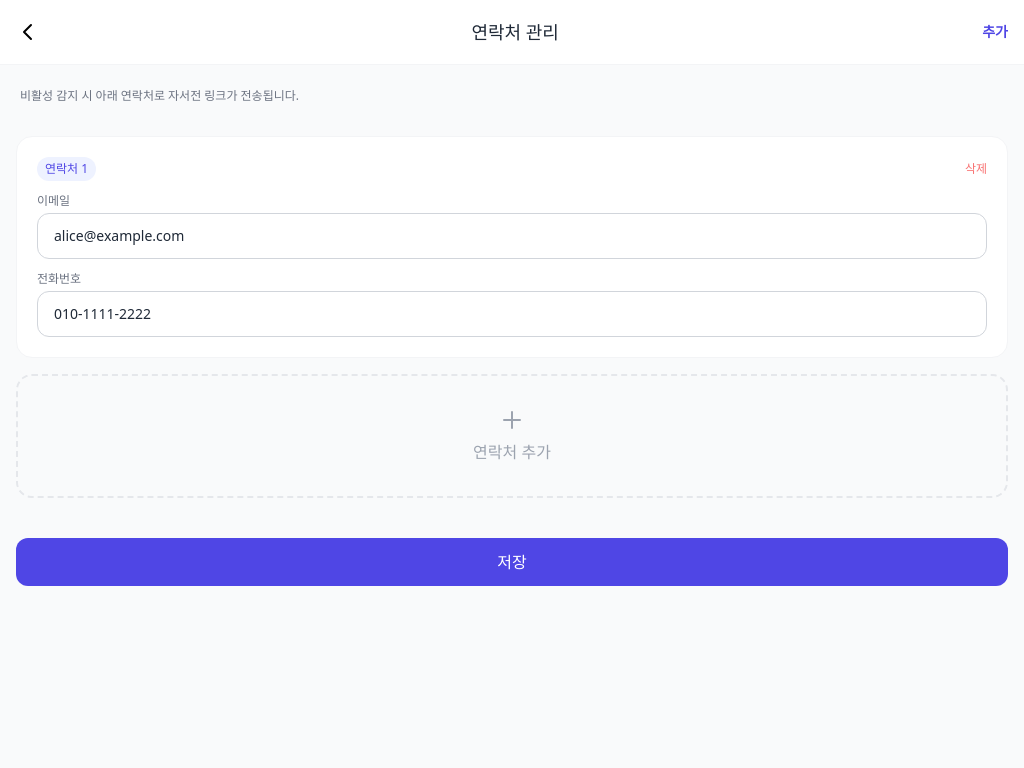
Settings Contacts Flow - Integration Test › Full Contacts Edit Flow › should complete: load → delete card → save → empty state shown
Expected: the number of elements with test id "contact-card" is 1, [16, 136, 1008, 358]
# Act — Step 2: Delete the card
Click the button with test id "contact-delete-button". click: (976, 169)
box: [965, 161, 987, 177]
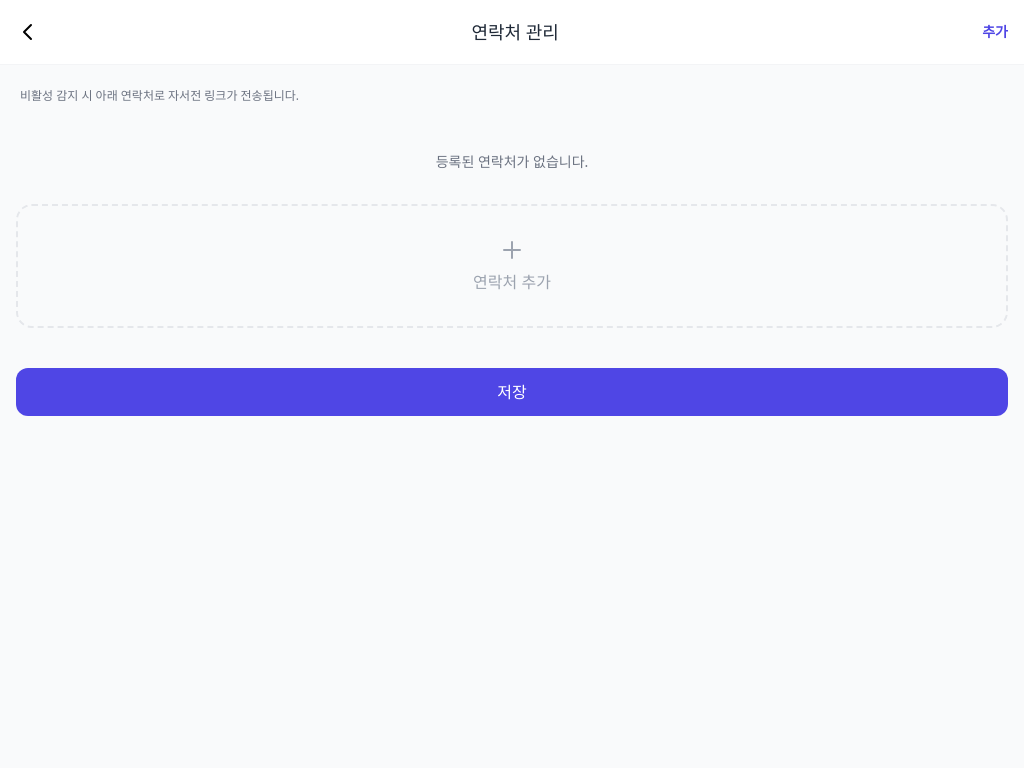
Expected: no elements with test id "contact-card" are shown
# Act — Step 3: Save
Click the button "저장". click: (512, 392)
box: [16, 368, 1008, 416]
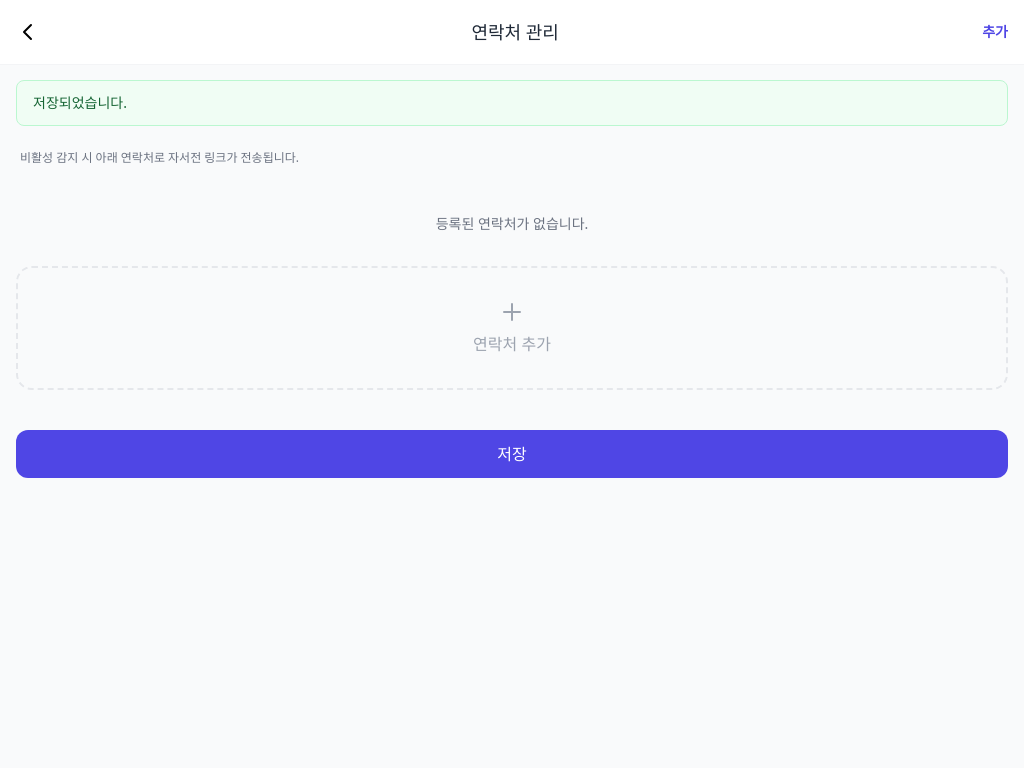
Expected: the text "등록된 연락처가 없습니다." is shown, [436, 214, 588, 233]
Expected: the text "저장되었습니다." is shown, [16, 80, 1008, 126]
